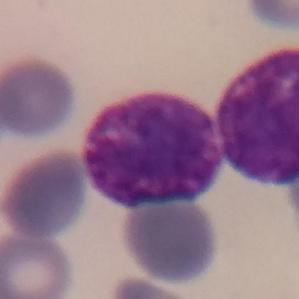Basophil: (74, 82, 232, 214), (217, 44, 299, 190)
RBC: (118, 187, 222, 288), (1, 149, 92, 240), (0, 55, 81, 142), (0, 231, 77, 299), (108, 274, 196, 299), (242, 0, 299, 33), (282, 155, 299, 246)
